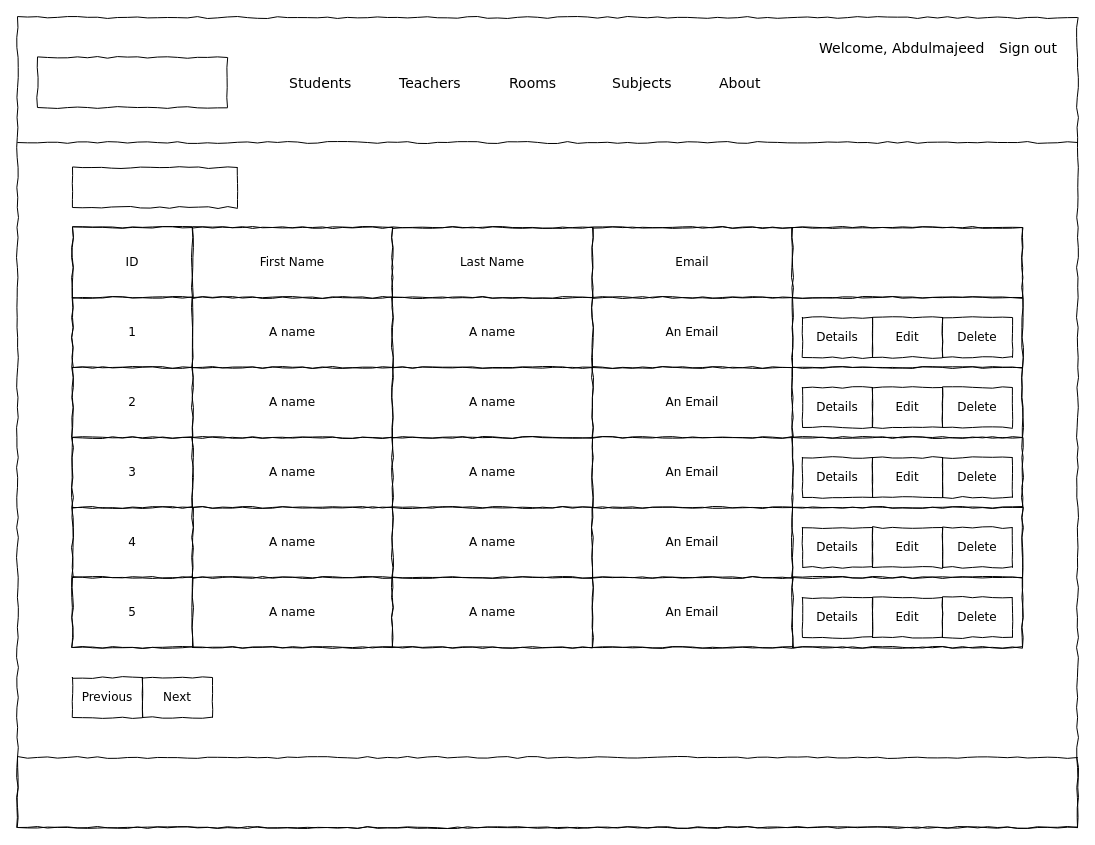
Image size: 1095x845. Some labels were removed from this diagram. Each missing label, with the centre of its shape:
Add New Student: (x=155, y=187)
Footer: (x=547, y=792)
LOGO: (x=132, y=82)
